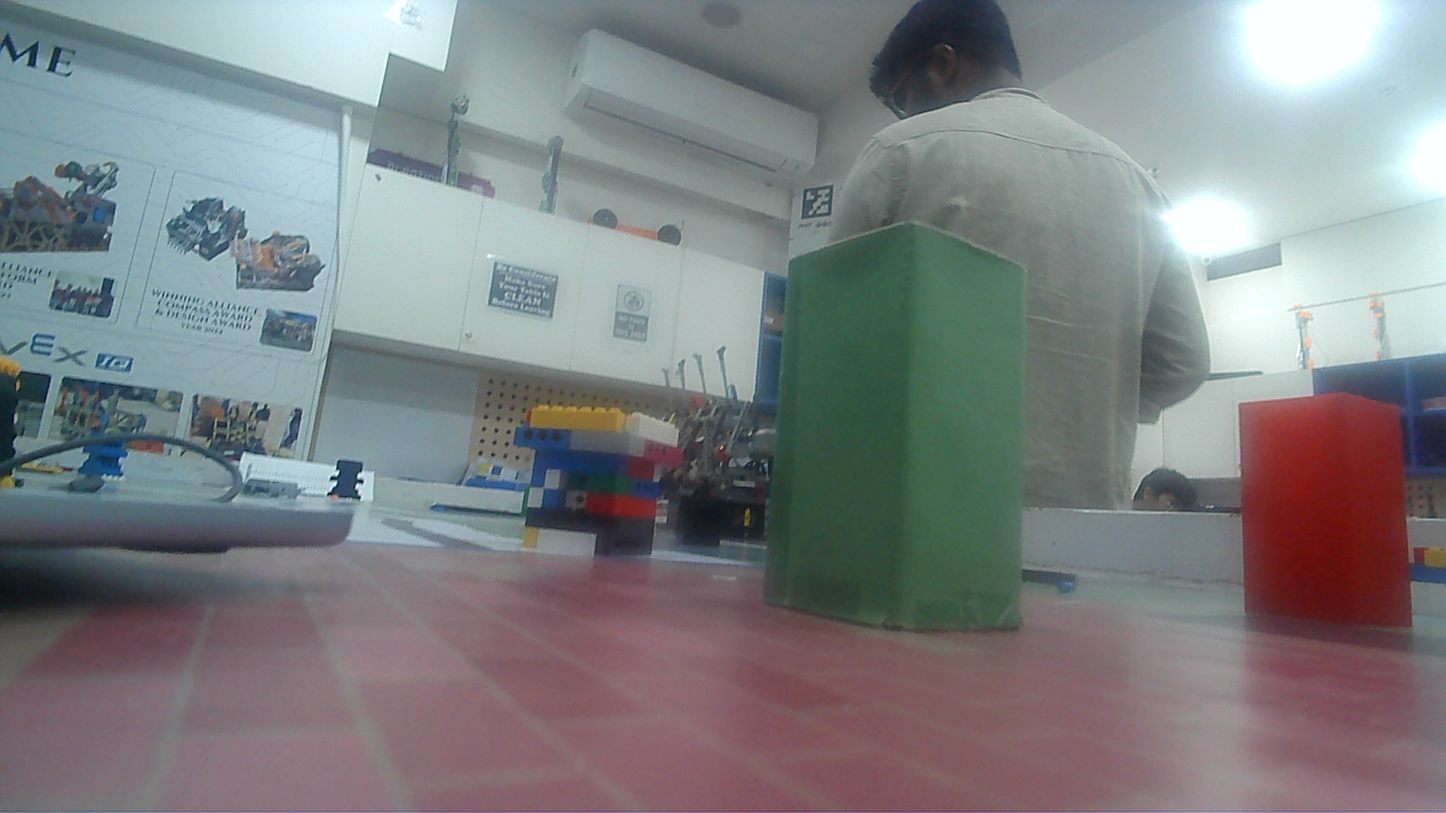green: (761, 237, 1032, 632)
